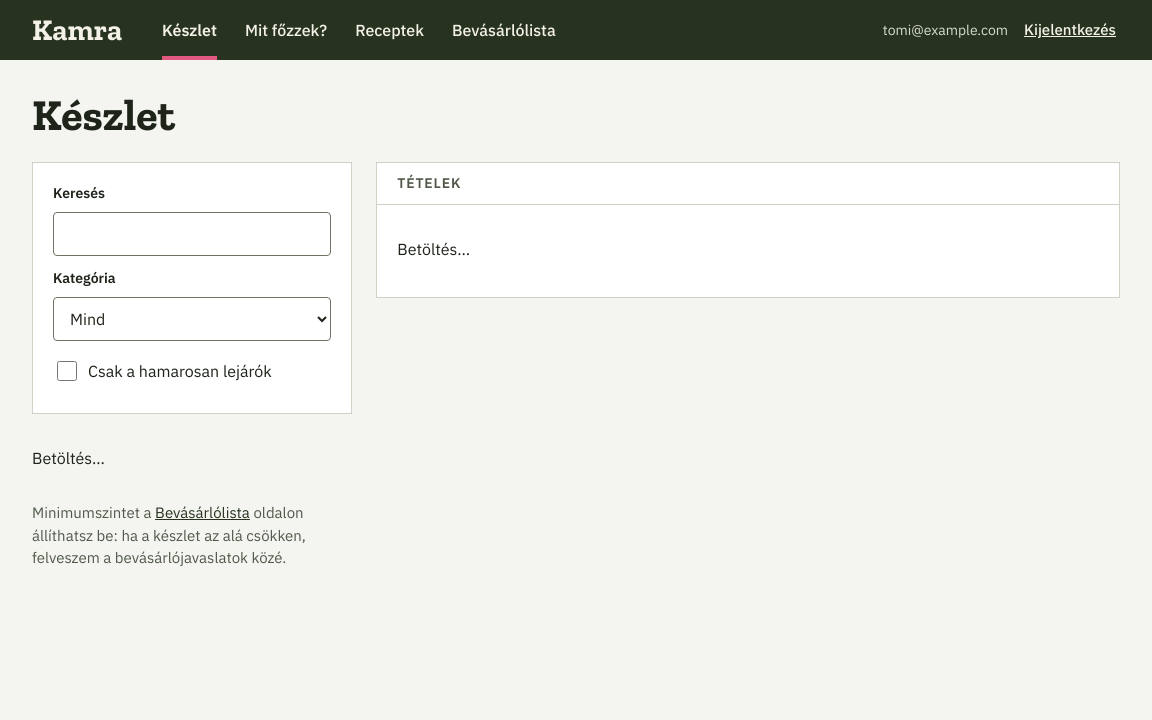
Test: sign-in screens › treats logging out with an already expired session as a successful logout, without a message
Click the button "Kijelentkezés": (1070, 30) [1020,8,1120,52]
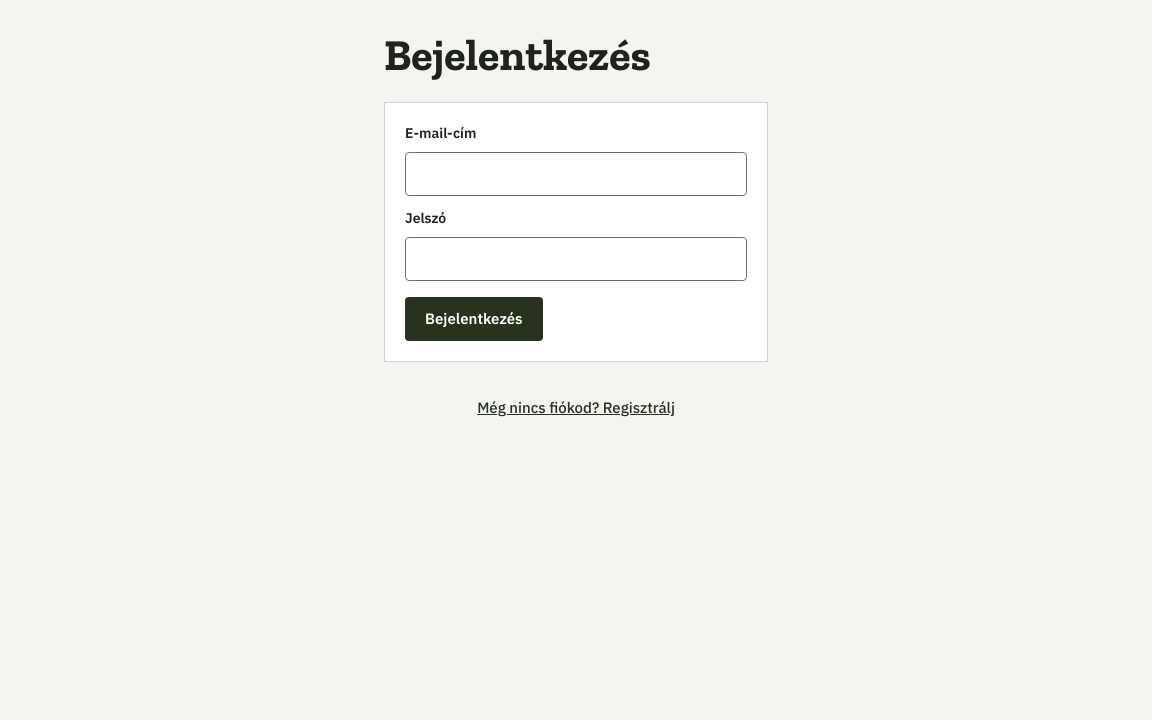
Check: the heading "Bejelentkezés" is shown, box [384,28,651,81]
